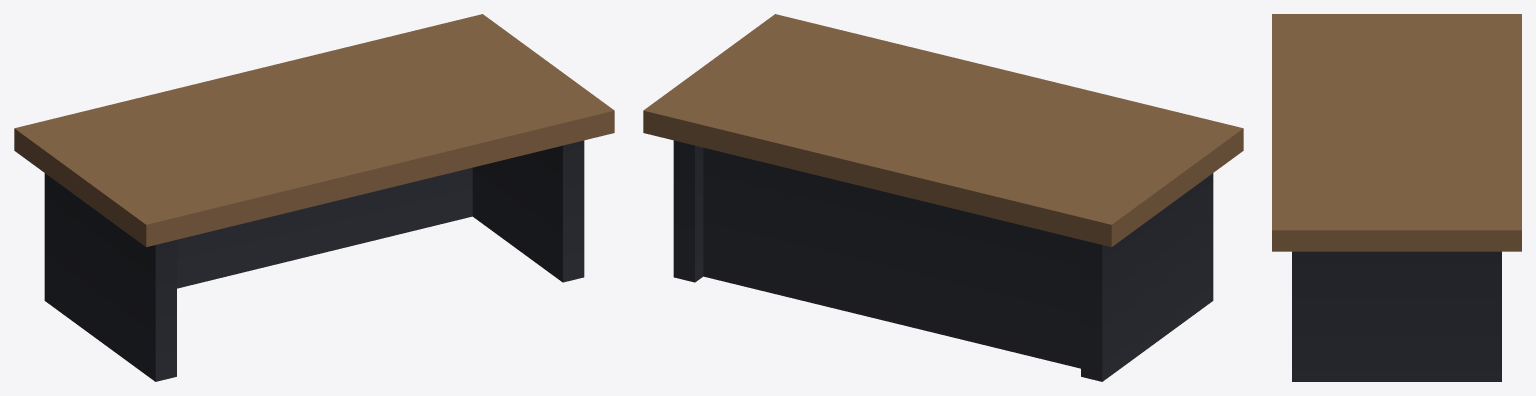
Rendered from Table.fbx.
The picture shows the model from 3 angles, left to right: view 1: azimuth 30°, elevation 25°; view 2: azimuth 150°, elevation 25°; view 3: azimuth 270°, elevation 25°; orthographic projection. The views are drawn at different scales.
Visible parts, largest first — view 1: Table; view 2: Table; view 3: Table.
Boxes of the visible parts, x1=… form: Table: x1=14, y1=14, x2=614, y2=381; Table: x1=643, y1=14, x2=1243, y2=381; Table: x1=1272, y1=14, x2=1521, y2=381.
Bounding box in the file's own units: 287 × 99.4 × 140.
